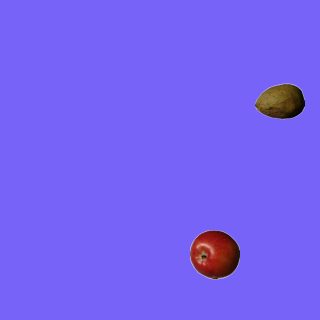Apple Braeburn: (189, 229, 239, 279)
Papaya: (254, 76, 304, 126)
